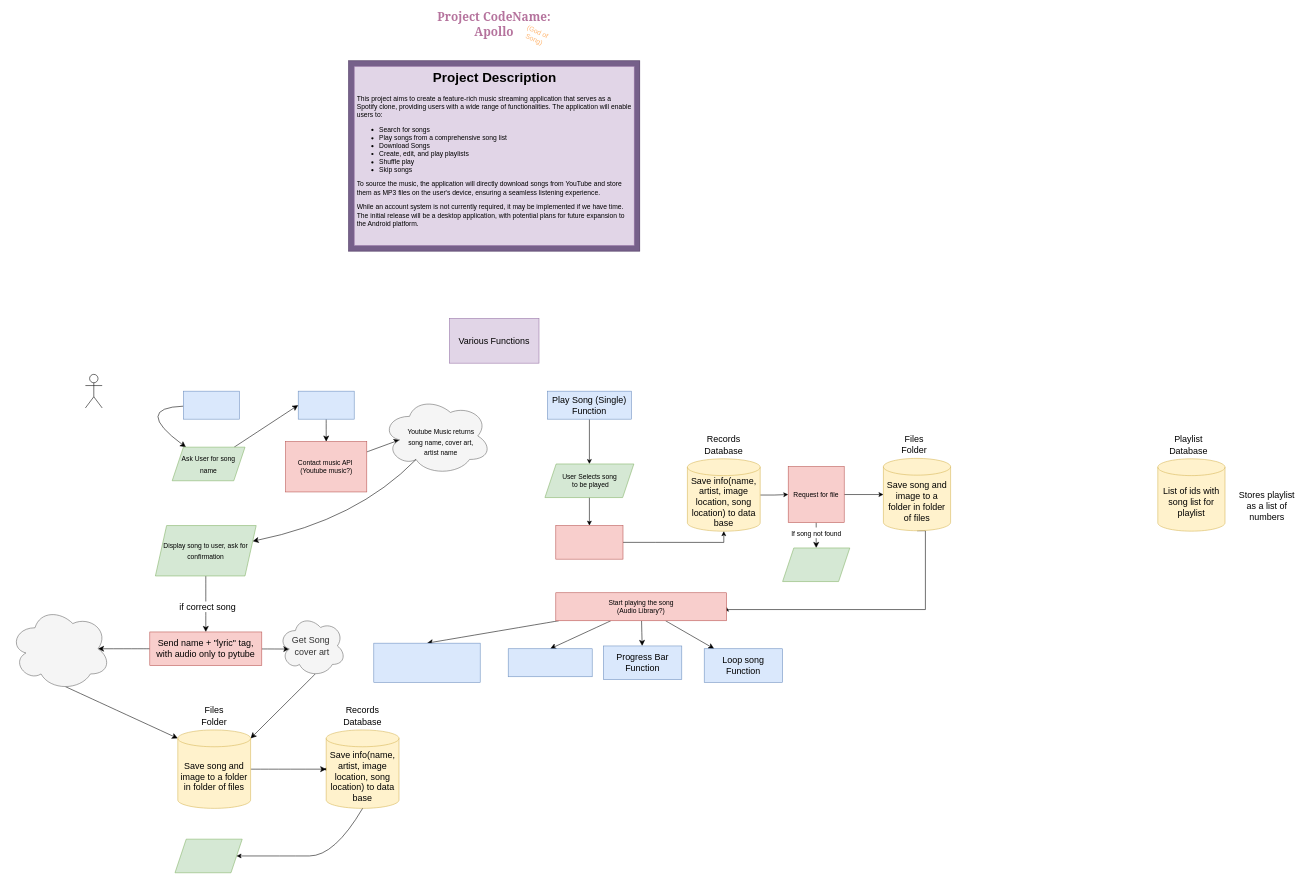
Some shapes in this 1308 by 883 pixel diagram are drawn without their labels. The shapes that lost their labels are listed below. From the top down, each one's box as (x1, y1, x2, y2) in pixels, then its label:
(85, 374, 102, 408): Mr. White
(183, 391, 239, 419): Download Function
(298, 391, 354, 419): Search function
(555, 525, 623, 559): Ask records database
(782, 547, 850, 582): Return an error
(9, 606, 111, 691): Pytube Downloads audio only version
(373, 643, 480, 682): Skip Function (Play random song)
(508, 648, 592, 677): Play and Pause Function
(174, 839, 242, 873): Take user back to song list page
